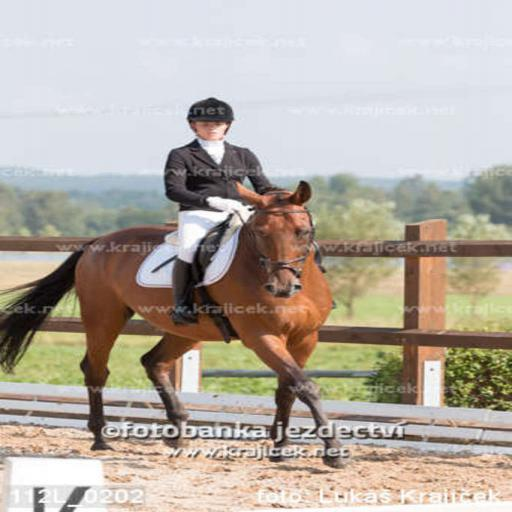horse: (0, 181, 352, 470)
